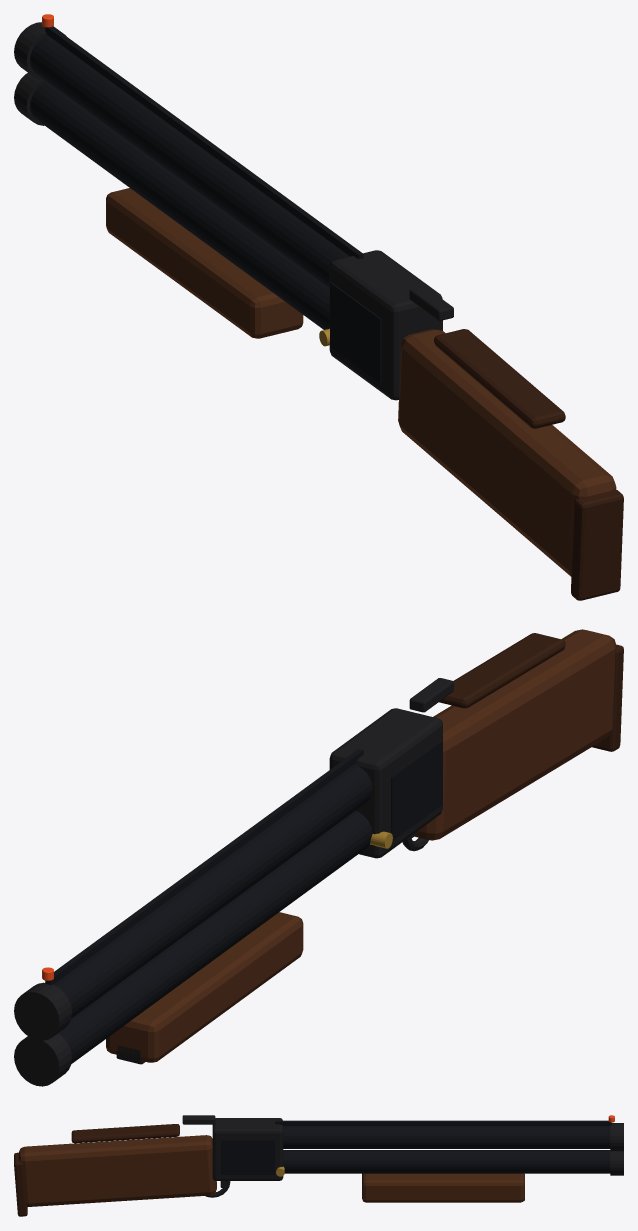
The model's file is shotgun.obj.
3 renders of one model, top to bottom at view 1: azimuth 30°, elevation 25°; view 2: azimuth 150°, elevation 25°; view 3: azimuth 270°, elevation 25°, orthographic. The views are drawn at different scales.
Parts seen in each view (by area): view 1: shotgun; view 2: shotgun; view 3: shotgun.
Boxes of the visible parts, x1,y1,x2,y2 form: shotgun: [14, 14, 623, 600]; shotgun: [14, 629, 623, 1086]; shotgun: [14, 1115, 623, 1216].
Size of the model in its own units: 0.075 by 0.1937 by 1.12.
